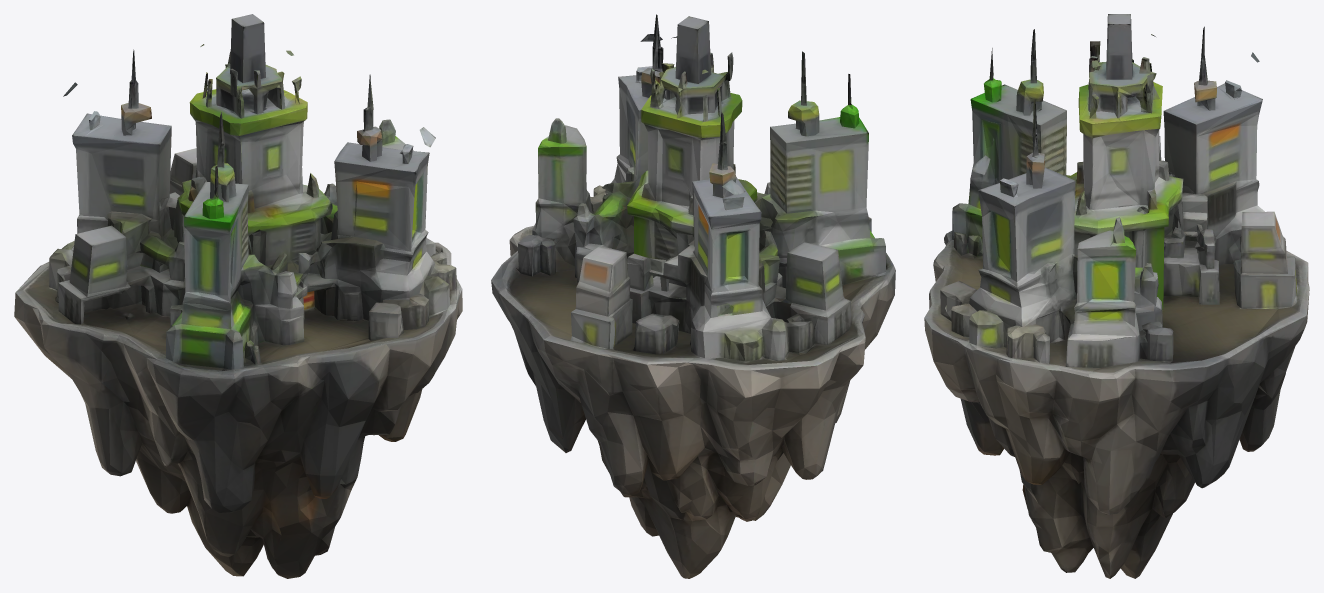
Rendered from bg-island-ai.glb.
3 views of the same model, side by side, from view 1: azimuth 30°, elevation 25°; view 2: azimuth 150°, elevation 25°; view 3: azimuth 270°, elevation 25° (orthographic).
Parts seen in each view (by area): view 1: geometry_0; view 2: geometry_0; view 3: geometry_0.
Boxes of the visible parts, x1,y1,x2,y2 form: geometry_0: (14,14,462,578); geometry_0: (491,14,895,578); geometry_0: (924,14,1309,578).
Bounding box in the file's own units: 0.7123 × 0.999 × 0.6256.
1 material, 1 textured.
